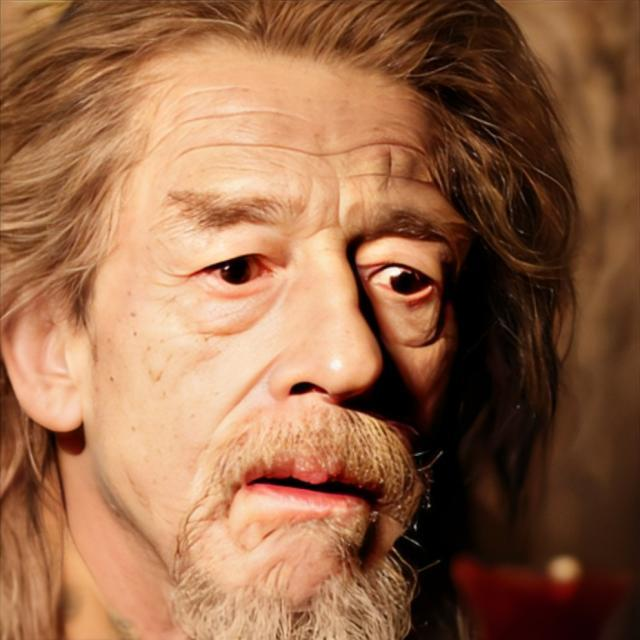fear: (84, 41, 493, 614)
